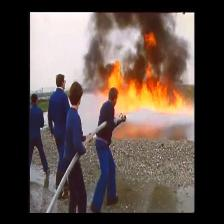fire: (112, 82, 182, 112)
smoke: (145, 18, 176, 60)
